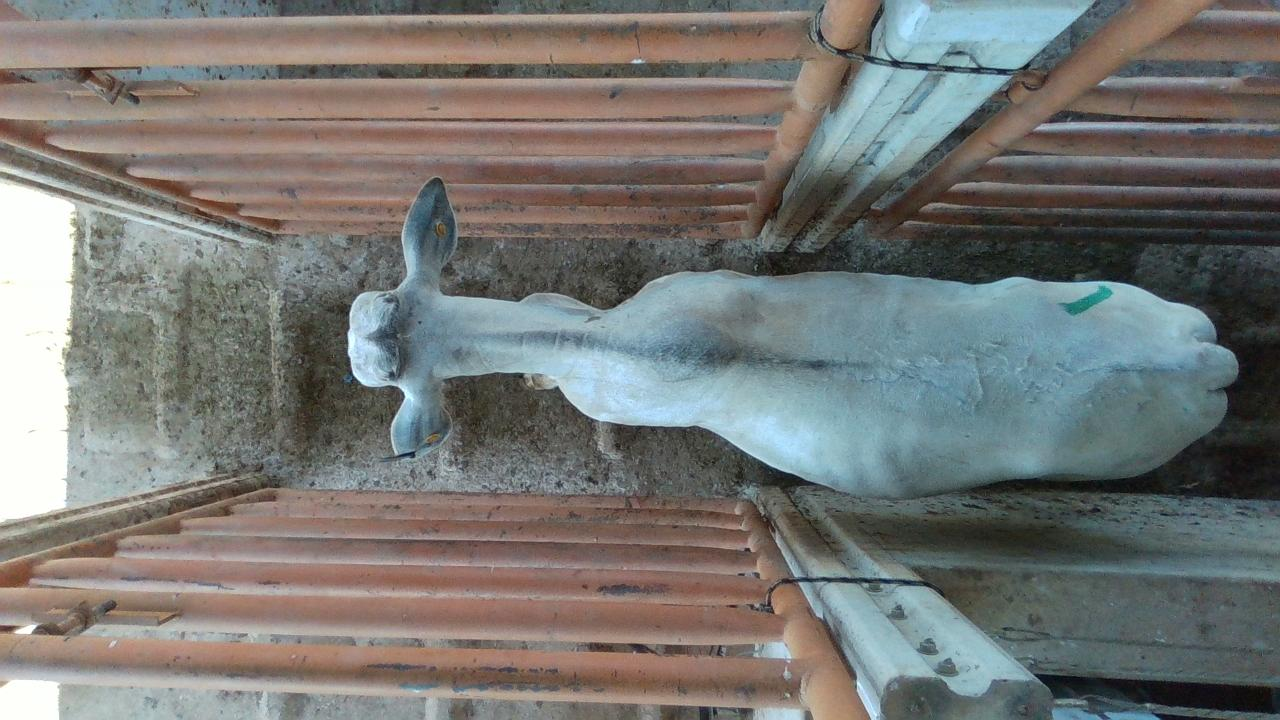cattle: (344, 174, 1240, 500)
